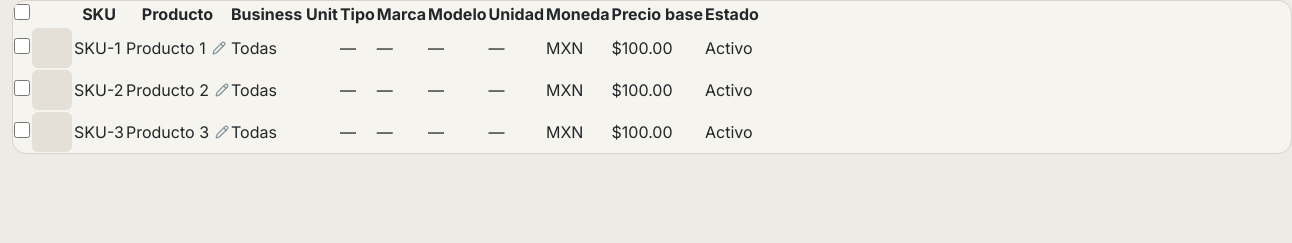
Test case: CatalogSelectionTable (ajuste de cierre — selección múltiple / eliminar del catálogo) › seleccionar varios acumula la selección y actualiza el conteo
Click the checkbox named "Seleccionar SKU-1". click: (22, 46)
box: [14,38,30,54]
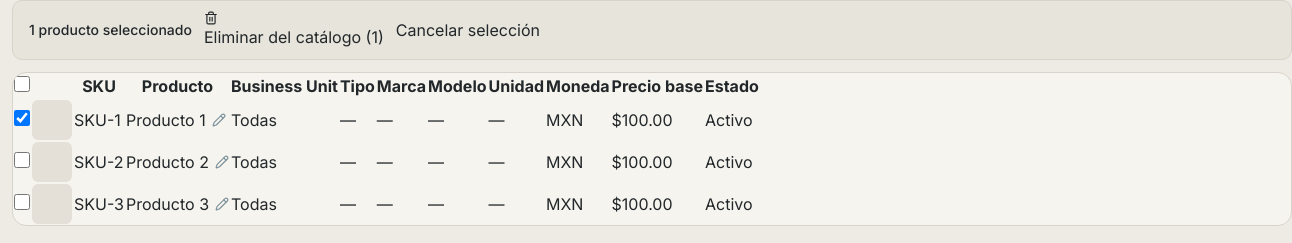
Click the checkbox named "Seleccionar SKU-3". click: (22, 202)
box: [14,194,30,210]
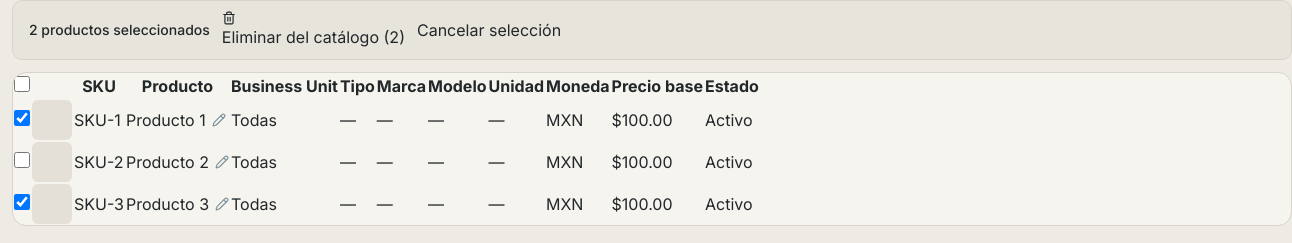
Check: the text "2 productos seleccionados" is shown, box [29,20,210,40]
Check: the button "Eliminar del catálogo (2)" is shown, box [222,11,405,49]
